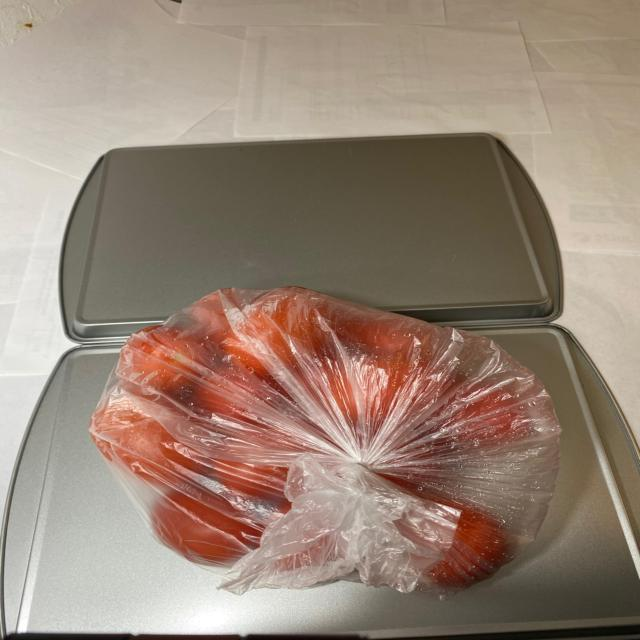tomato: (92, 287, 554, 592)
